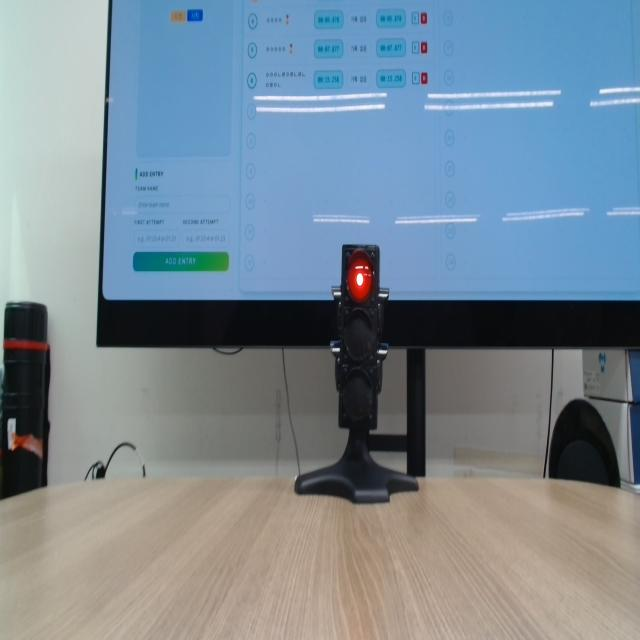red_light: (347, 252, 373, 304)
